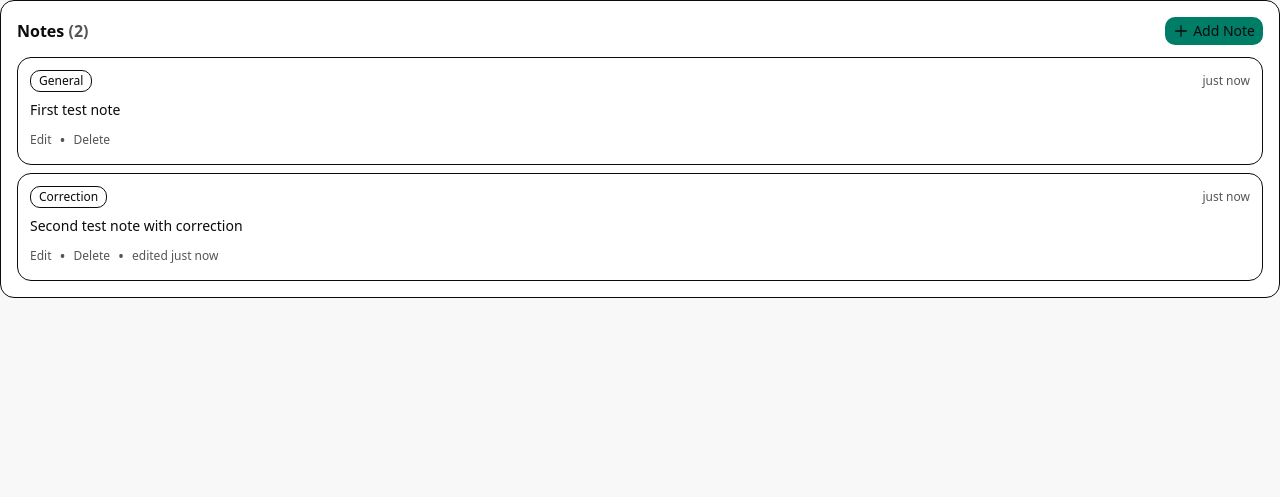
Test: UserNotesPanel › Add Note Form › shows add form when add button is clicked
The width and height of the screenshot is (1280, 497).
Click the button "Add Note" at (1214, 31), box x1=1165 y1=17 x2=1263 y2=45
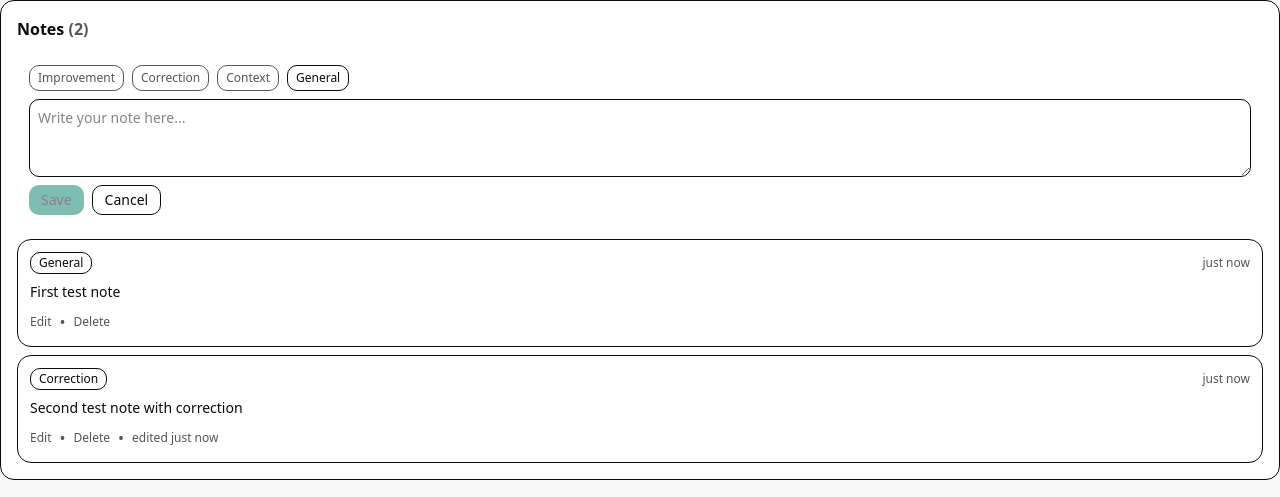
Check: the text box with placeholder "Write your note here..." is shown, box x1=29 y1=99 x2=1251 y2=177
